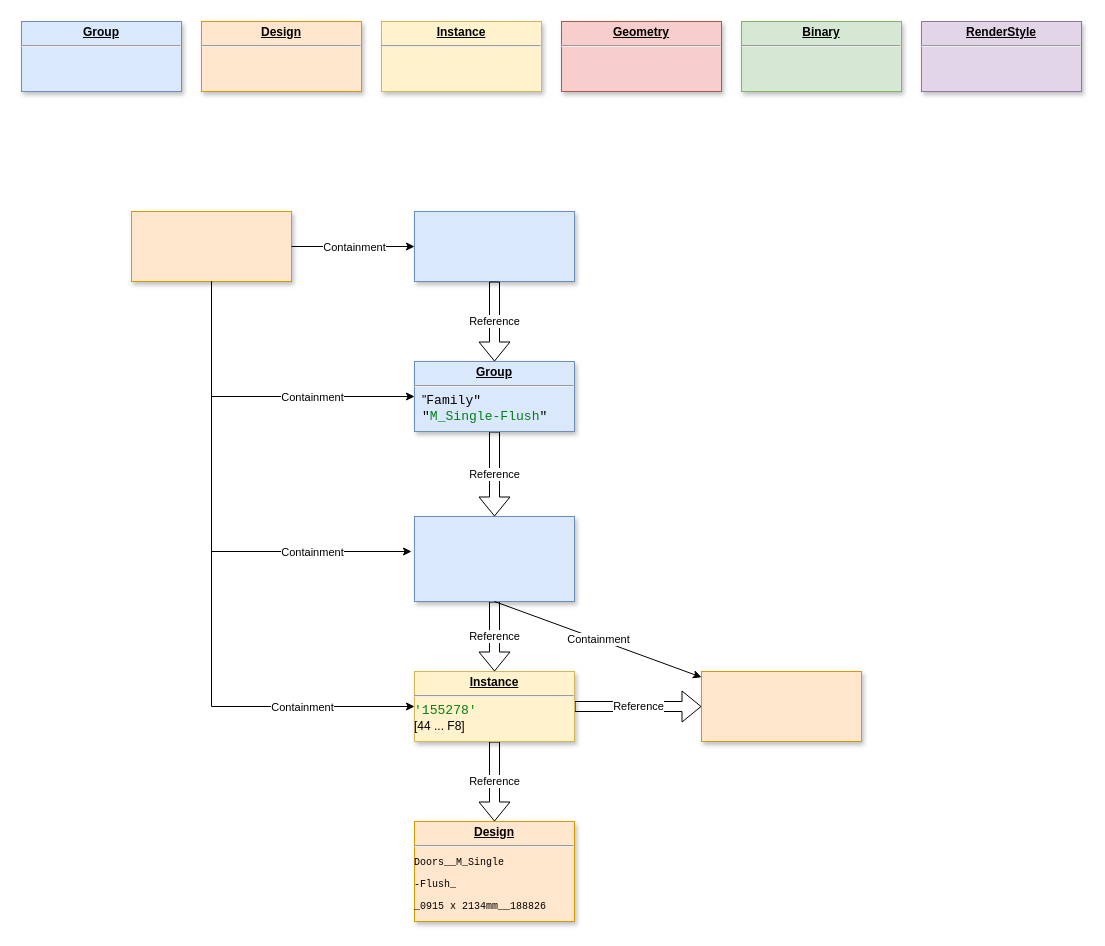
The diagram is 1105 pixels wide and 946 high, and some of its shapes have lost their labels. Each missing label, with the centre of its shape:
Design "TopLevelAssembly" [35 ... B6]: (212,247)
Design ' M_Single-Flush ' [19 ... 6D]: (782,707)
Group "Category" "Doors": (495,247)
Group ' Type' ' 0915 x 2134mm ' [E0 ...FB]: (495,560)
